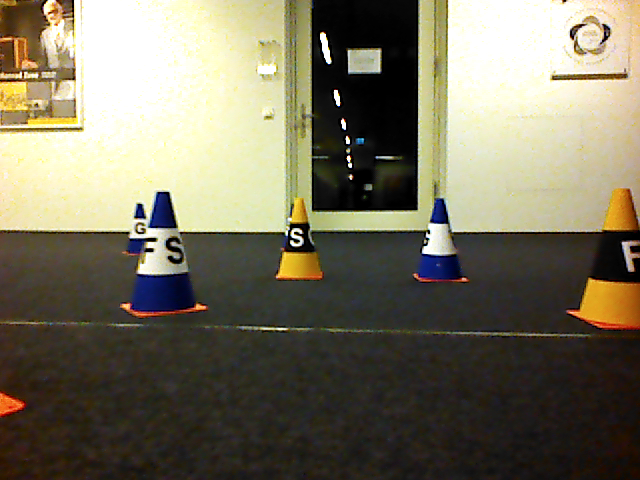bluecone: (130, 194, 209, 317), (411, 196, 470, 285)
yellowcone: (568, 189, 640, 332), (276, 198, 326, 282)
